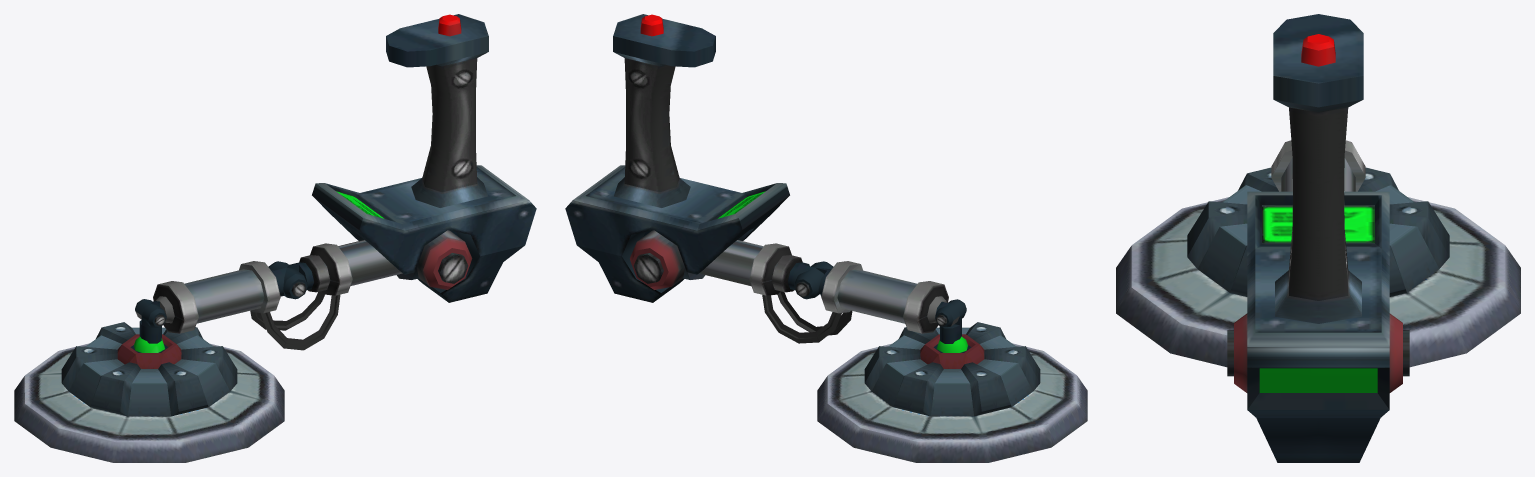
The model's file is MetalDetector.obj.
3 views of the same model, side by side, from view 1: azimuth 30°, elevation 25°; view 2: azimuth 150°, elevation 25°; view 3: azimuth 270°, elevation 25° (orthographic). The views are drawn at different scales.
Visible parts, largest first — view 1: Object01; view 2: Object01; view 3: Object01.
Part boxes in pixels (x1,y1,x2,y2): Object01: [14, 14, 536, 462]; Object01: [565, 14, 1087, 462]; Object01: [1116, 14, 1520, 462].
Bounding box in the file's own units: 23.61 × 15.01 × 11.51.
Materials: 1 (1 with a texture image).
